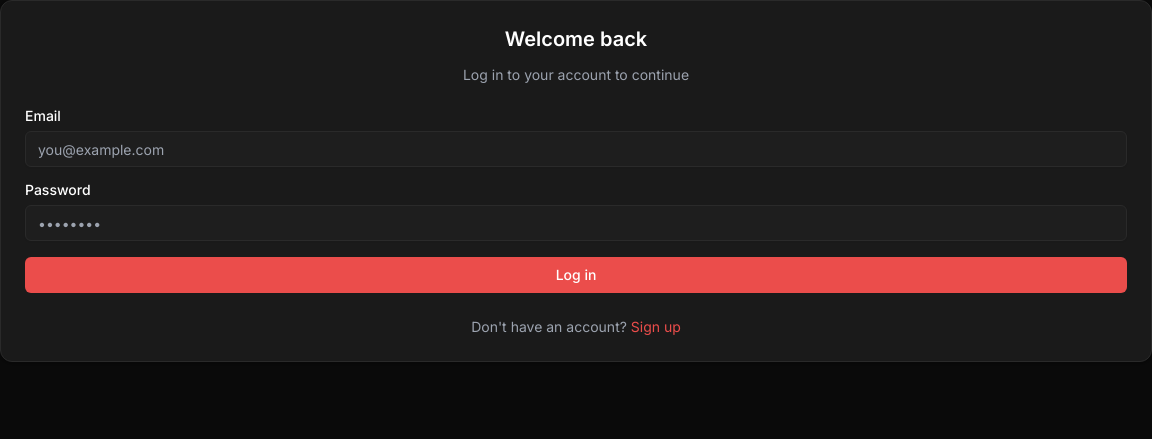
Scenario: LoginForm › clears error message on new submission
The image size is (1152, 439).
First submission - error
Type "test@example.com" into the field labelled "Email".
click(576, 149); type("test@example.com")  # box [25,131,1127,167]
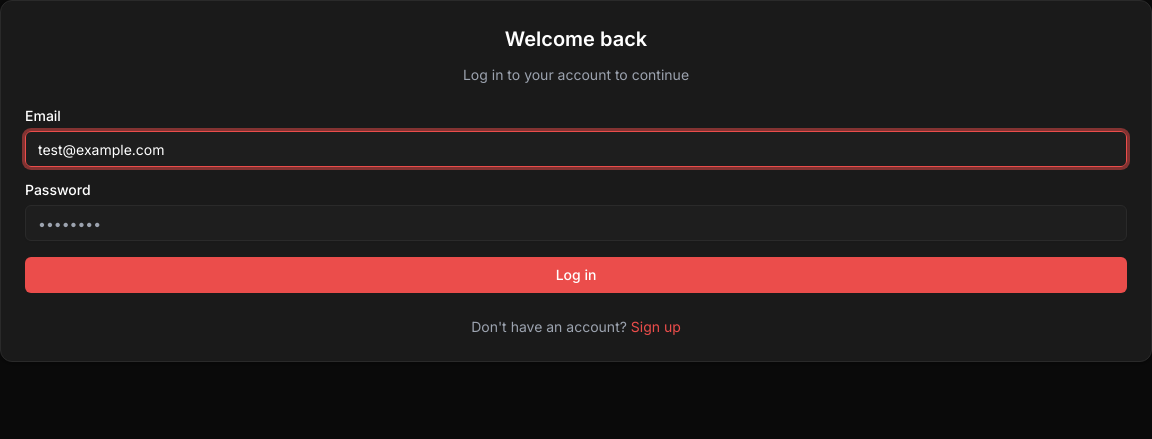
Type "wrong" into the password field labelled "Password".
click(576, 223); type("wrong")  # box [25,205,1127,241]
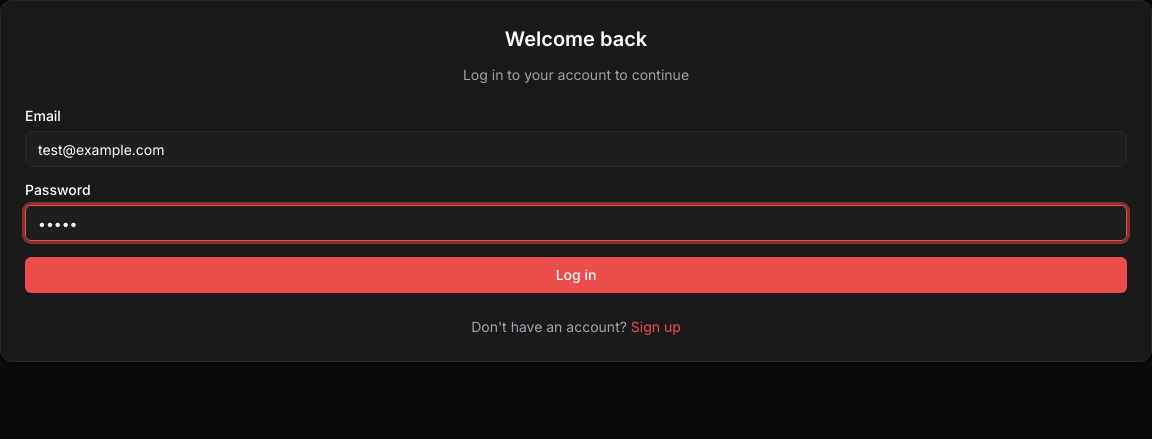
Click the button "Log in".
click(576, 275)  # box [25,257,1127,293]
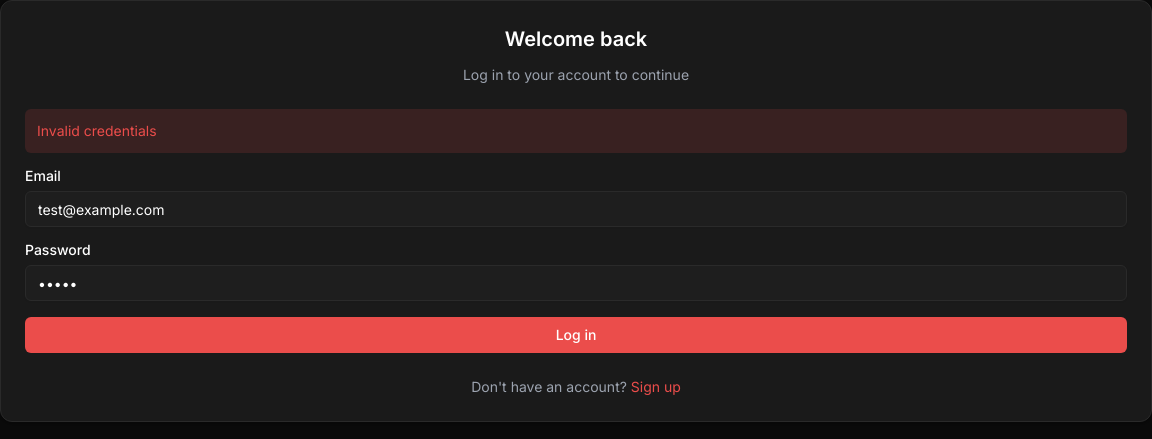
Expected: the text "Invalid credentials" is shown, [25,109,1127,153]
Second submission - success
Type "correct" into the password field labelled "Password".
click(576, 283); type("correct")  # box [25,265,1127,301]
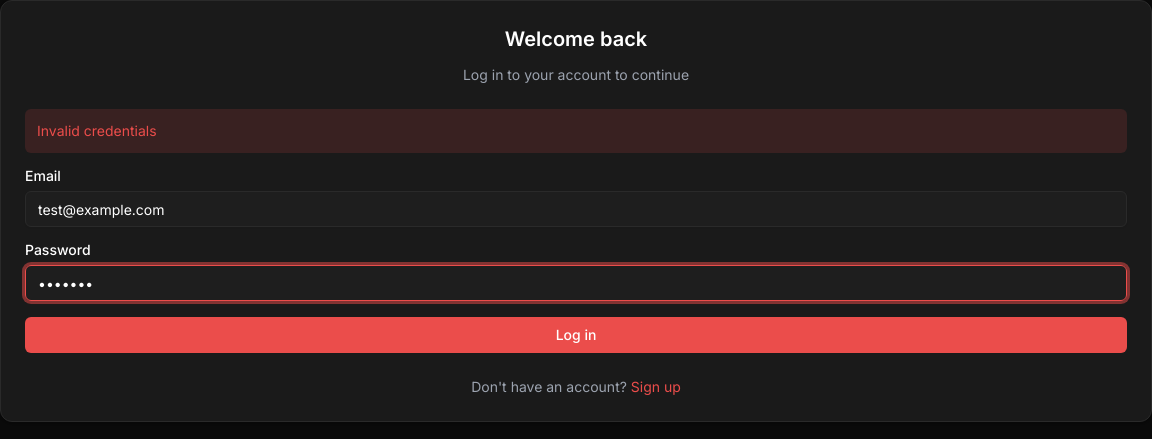
Click the button "Log in".
click(576, 335)  # box [25,317,1127,353]
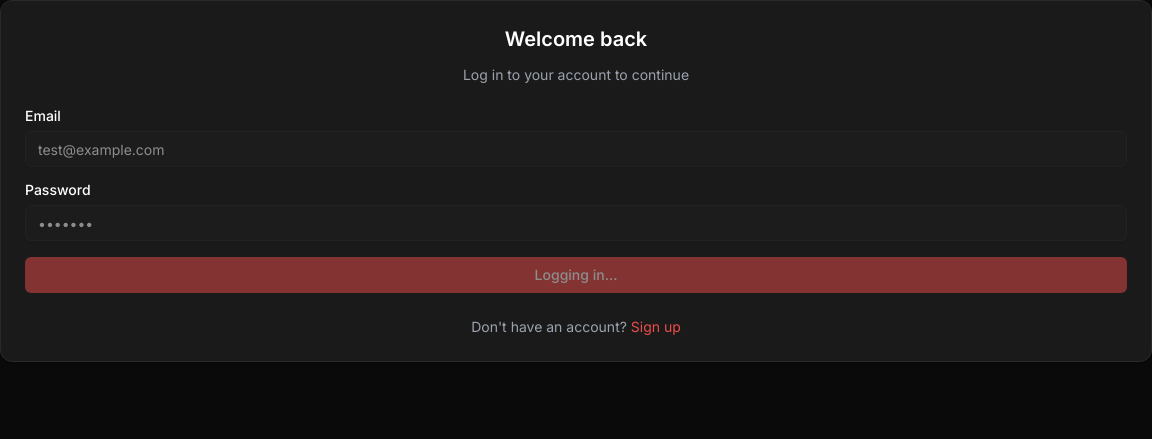
Expected: the text "Invalid credentials" is gone
